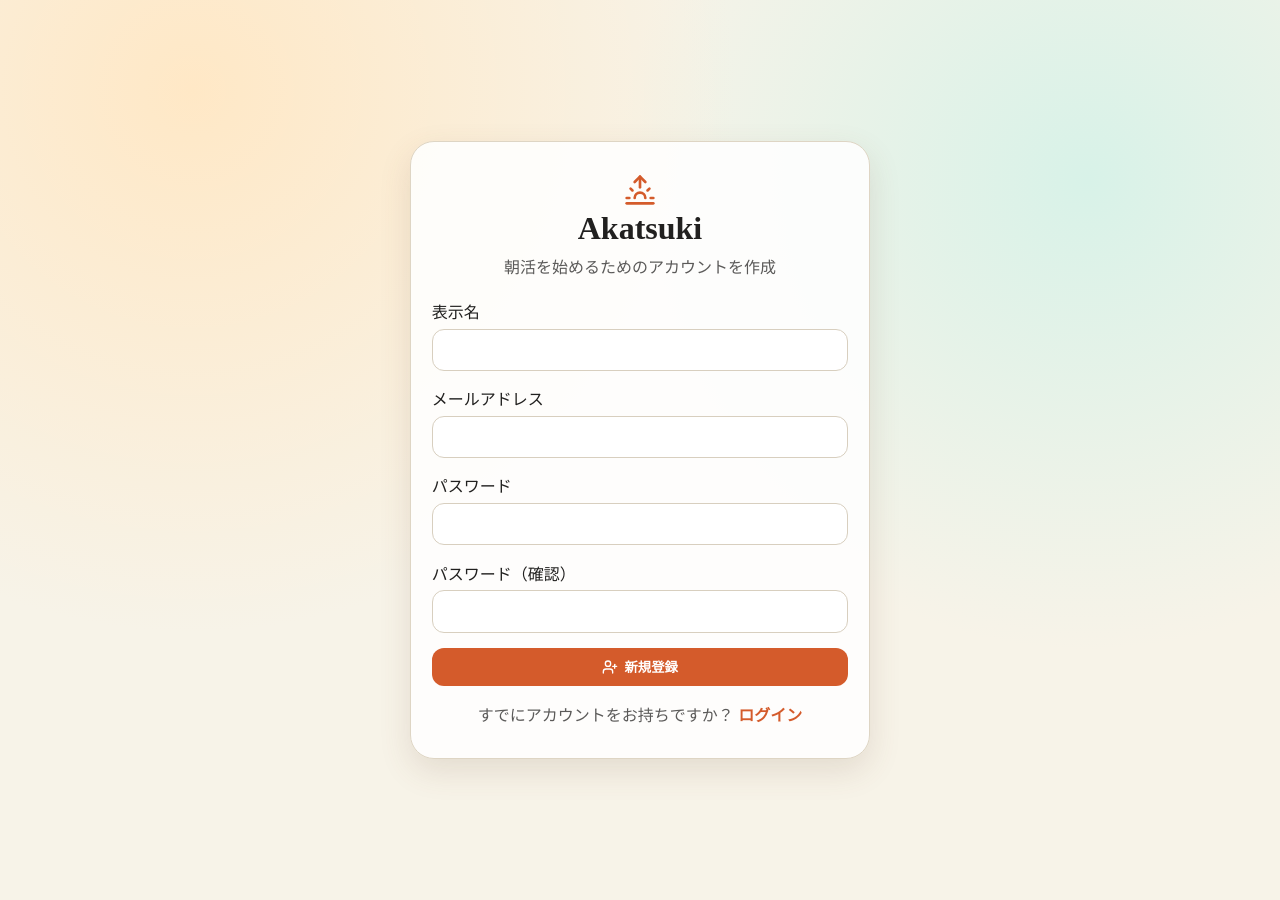
RegisterPage › shows API error message when register fails
Type "Foo User" into the field labelled "表示名" at coordinates (640, 350), box [432,329,848,371]
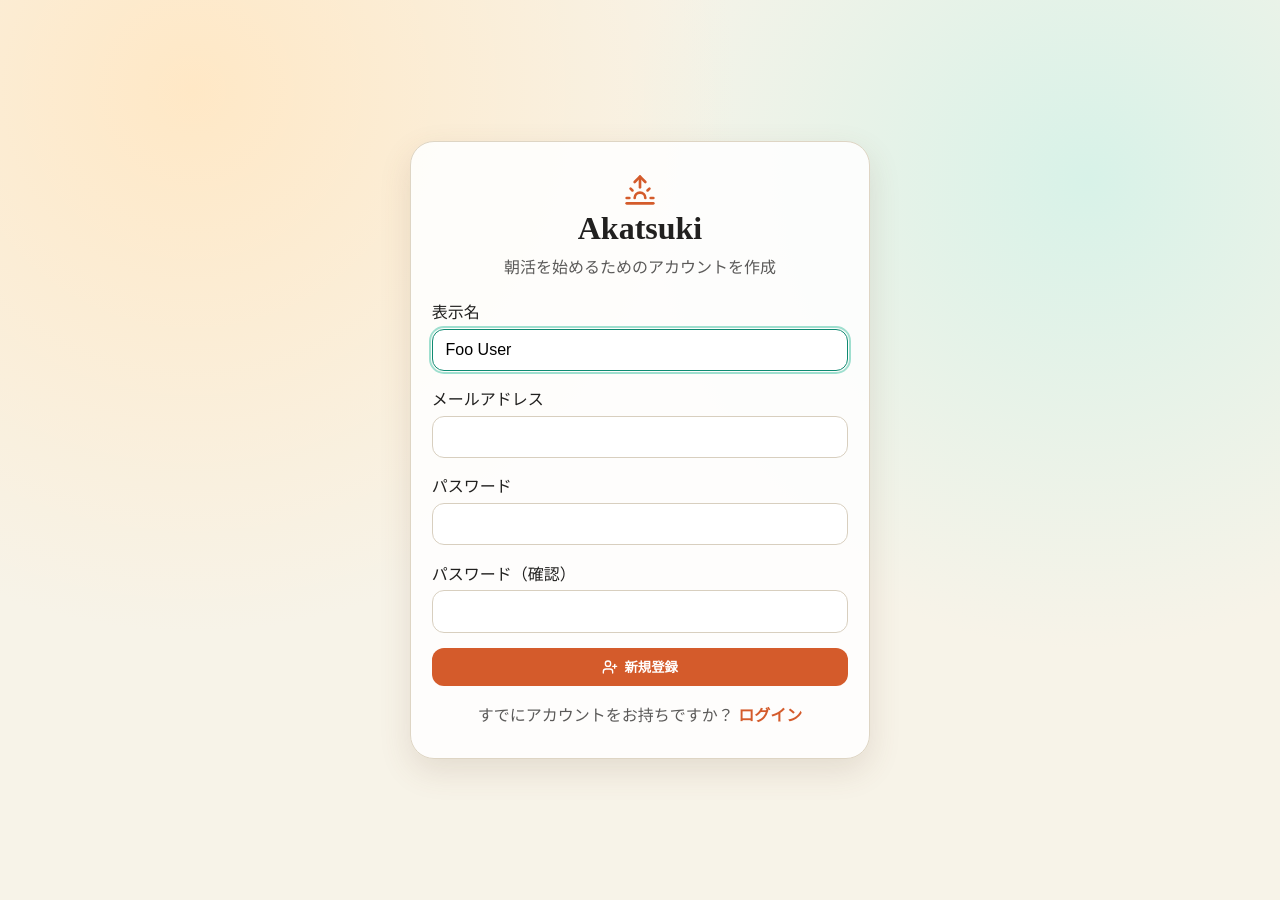
Type "foo@example.com" into the field labelled "メールアドレス" at coordinates (640, 437), box [432,416,848,458]
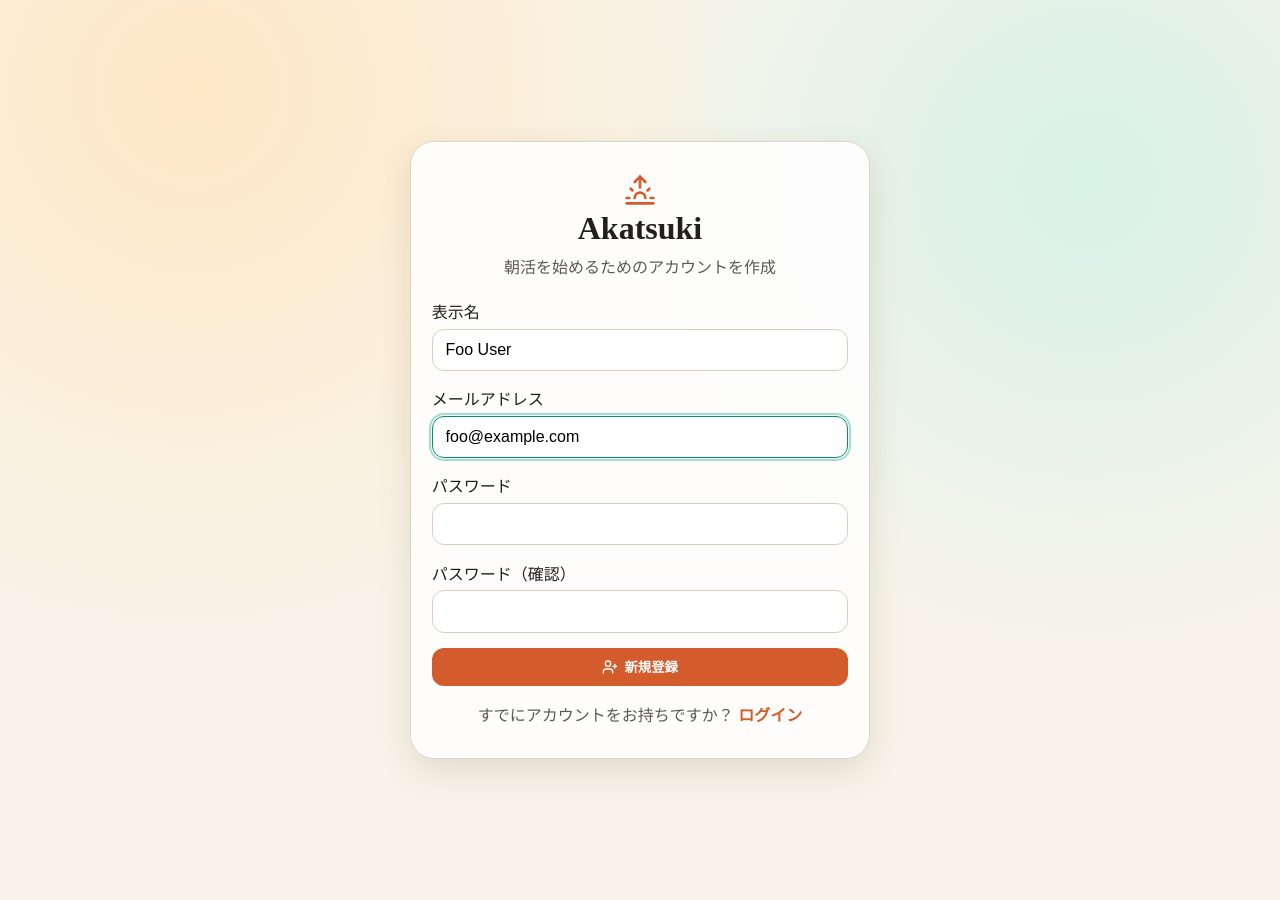
Type "password123" into the password field labelled "パスワード" at coordinates (640, 524), box [432,503,848,545]
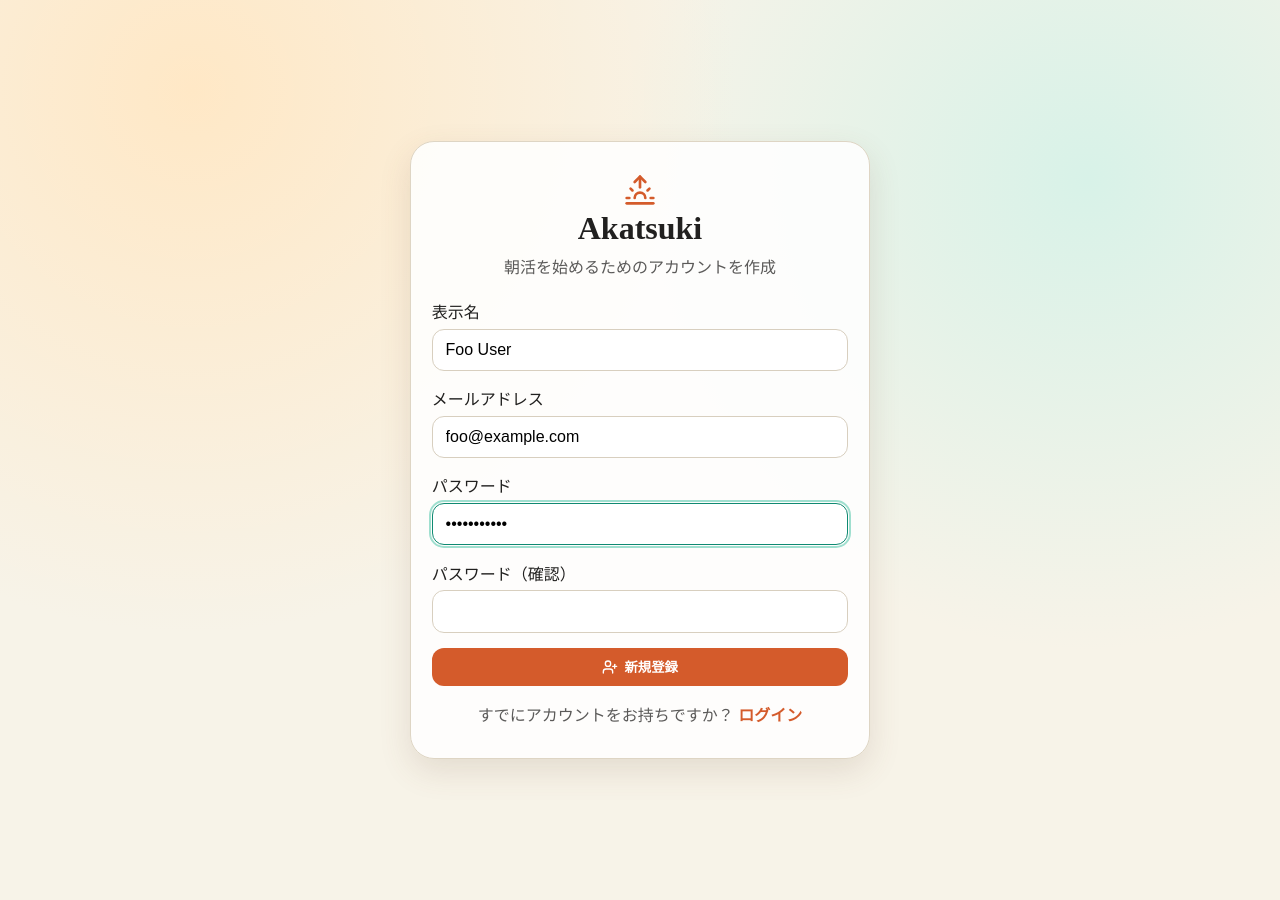
Type "password123" into the password field labelled "パスワード（確認）" at coordinates (640, 611), box [432,590,848,632]
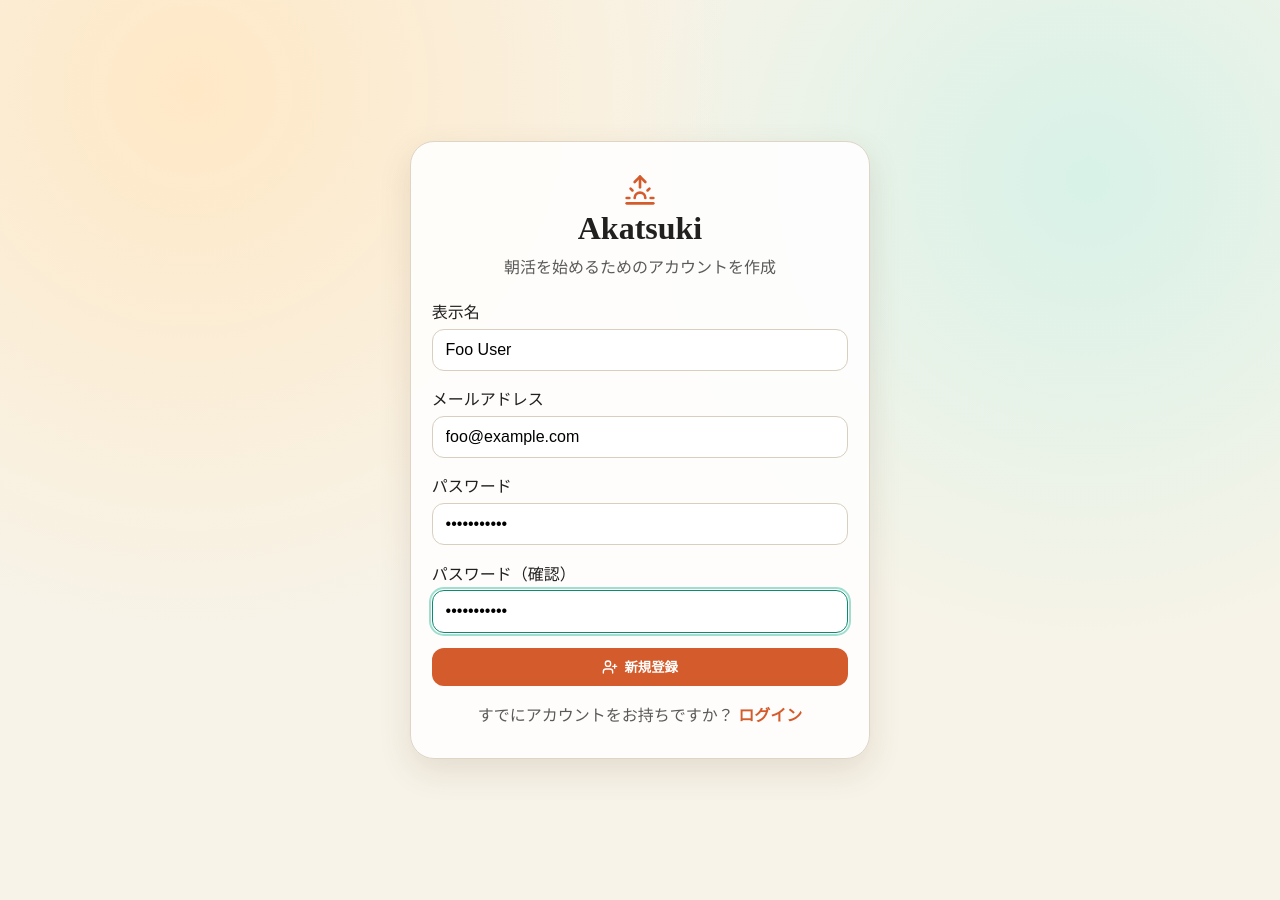
Click the button "新規登録" at coordinates (640, 667), box [432,648,848,686]
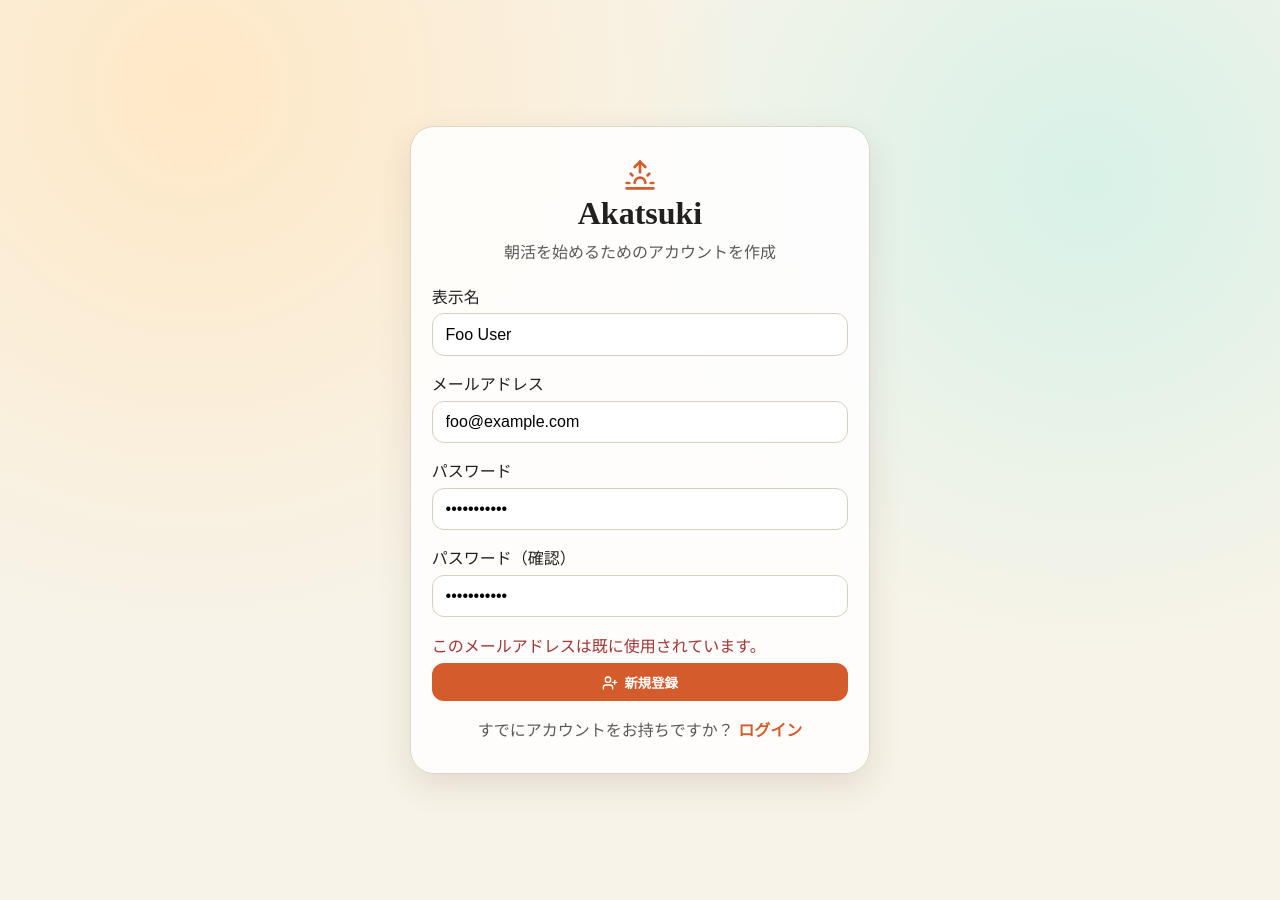
expect the text "このメールアドレスは既に使用されています。" is shown: met, box [432,638,766,654]
